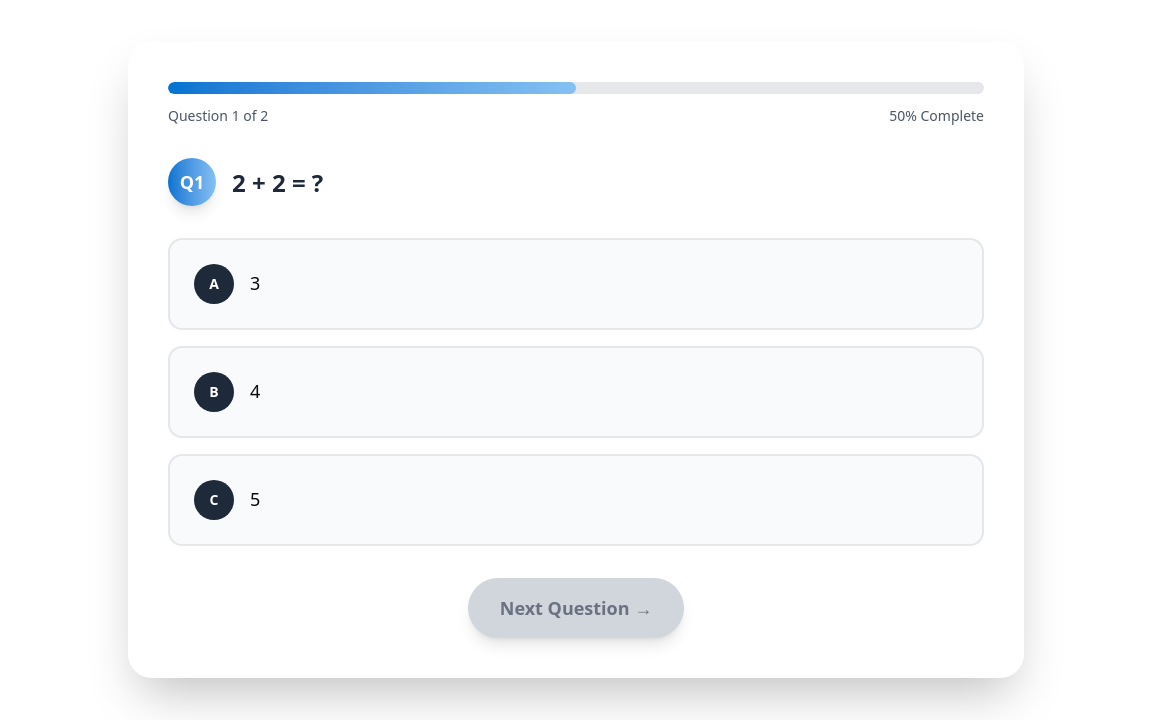
QuizCreation Component › selects answers, shows feedback, and finishes quiz
// --- First question
Click the text "4" at [255, 391], box [250, 379, 260, 403]
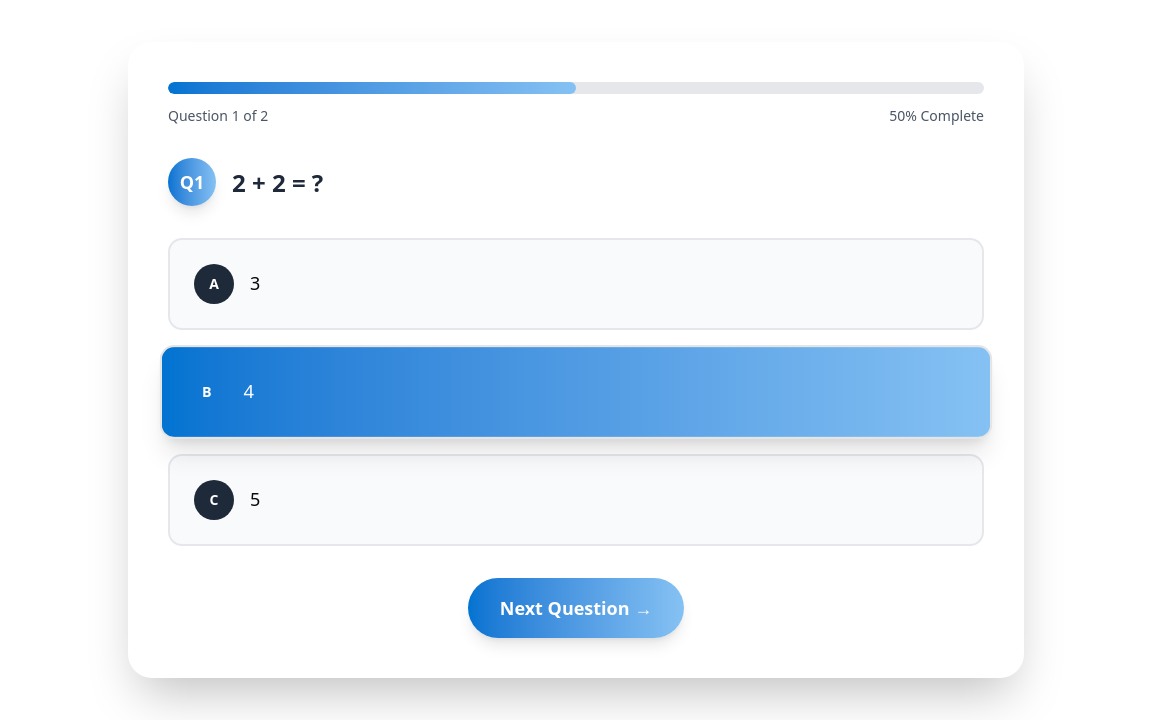
Click the button "Next Question →" at [576, 608], box [468, 578, 684, 638]
Wait 1500 ms
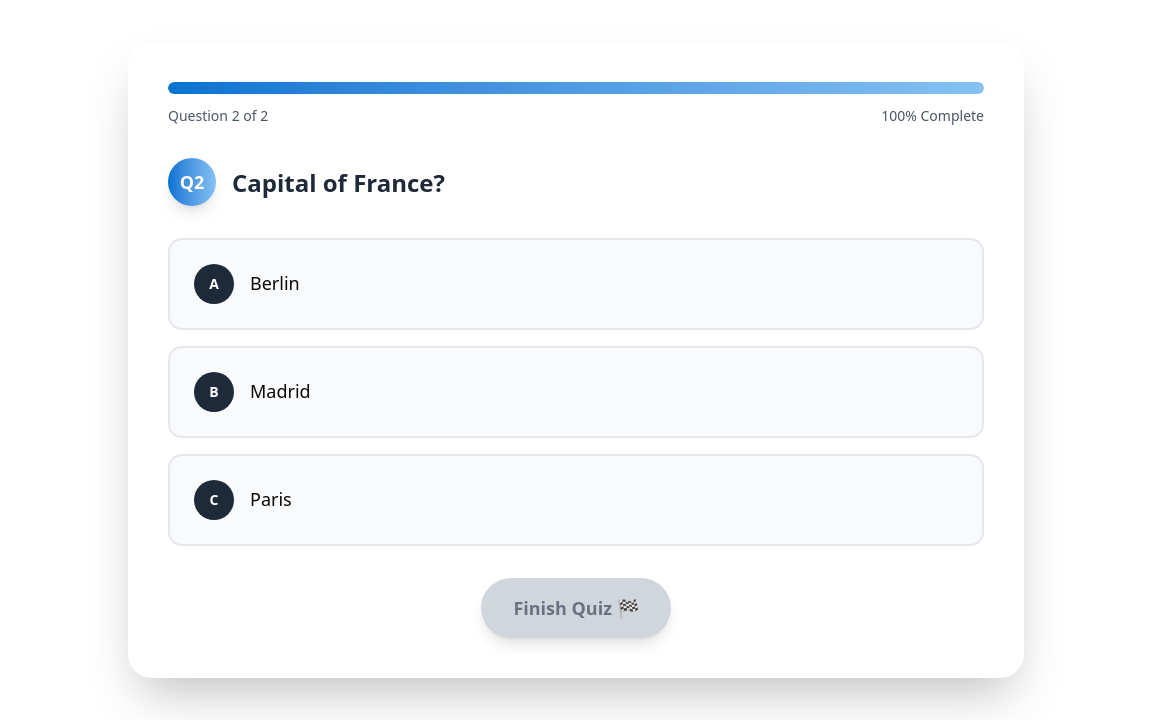
// --- Second question
Click the text "Paris" at [271, 499], box [250, 487, 292, 511]
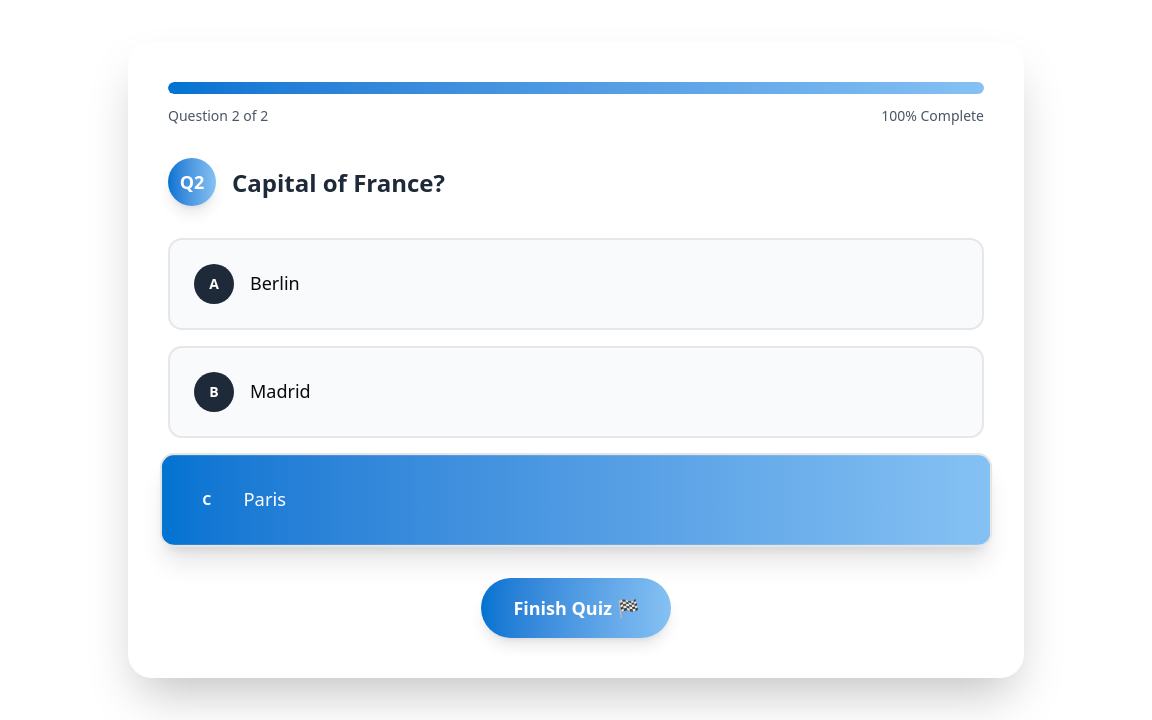
Click the button "Finish Quiz 🏁" at [576, 608], box [481, 578, 671, 638]
Wait 1500 ms
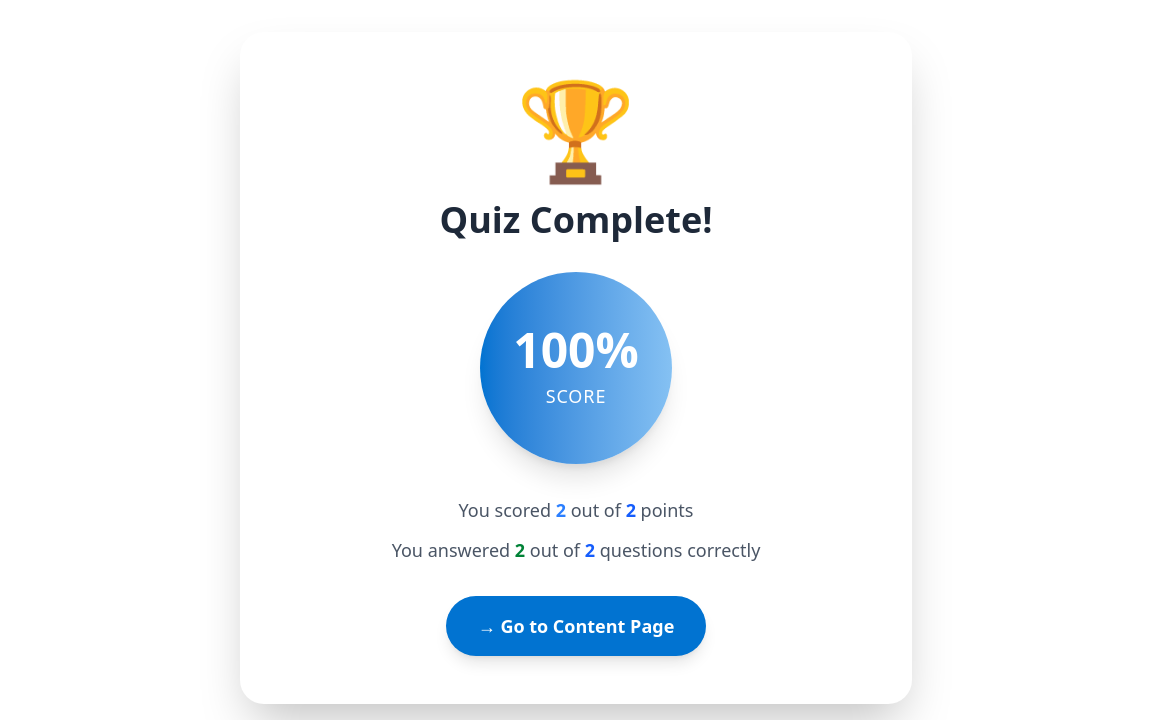
Check: the heading "Quiz Complete!" is shown, box [440, 195, 712, 244]
Check: the button "→ Go to Content Page" is shown, box [446, 596, 706, 656]
